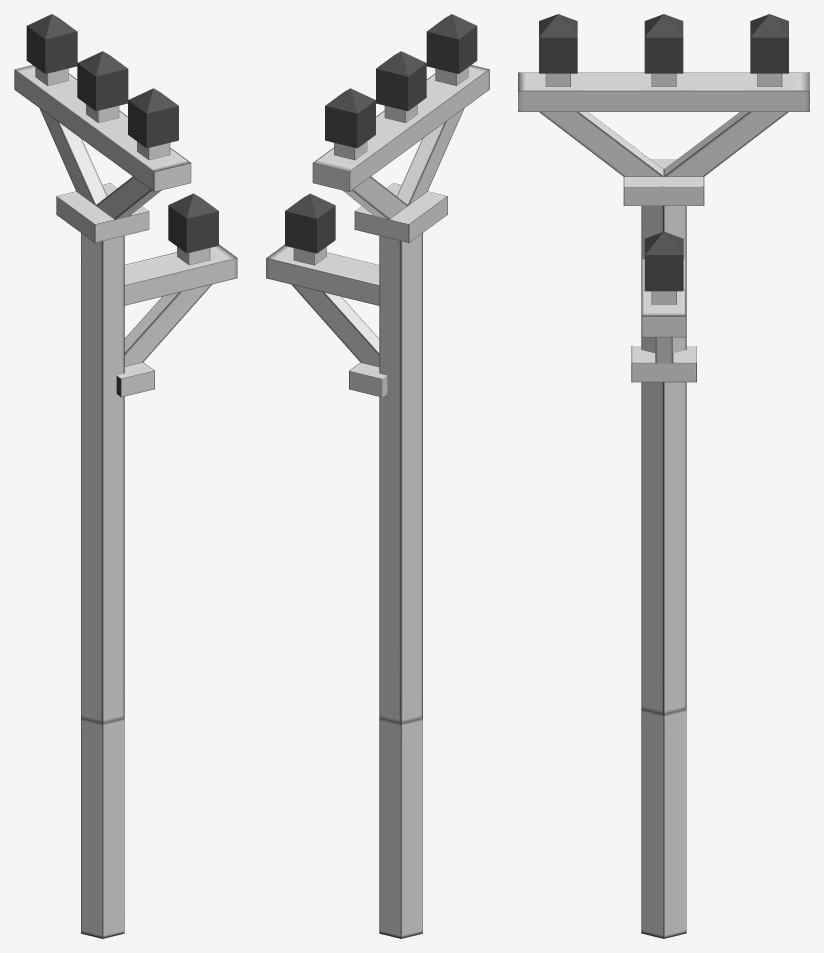
Rendered from Utility-Pole-03.fbx.
3 views of the same model, side by side, from view 1: azimuth 30°, elevation 25°; view 2: azimuth 150°, elevation 25°; view 3: azimuth 270°, elevation 25° (orthographic). The views are drawn at different scales.
Visible parts, largest first — view 1: Utility_Pose_03; view 2: Utility_Pose_03; view 3: Utility_Pose_03.
Boxes of the visible parts, x1,y1,x2,y2 form: Utility_Pose_03: [14, 14, 237, 938]; Utility_Pose_03: [266, 14, 489, 938]; Utility_Pose_03: [518, 14, 809, 938].
Size of the model in its own units: 0.4748 by 2.63 by 0.7603.
